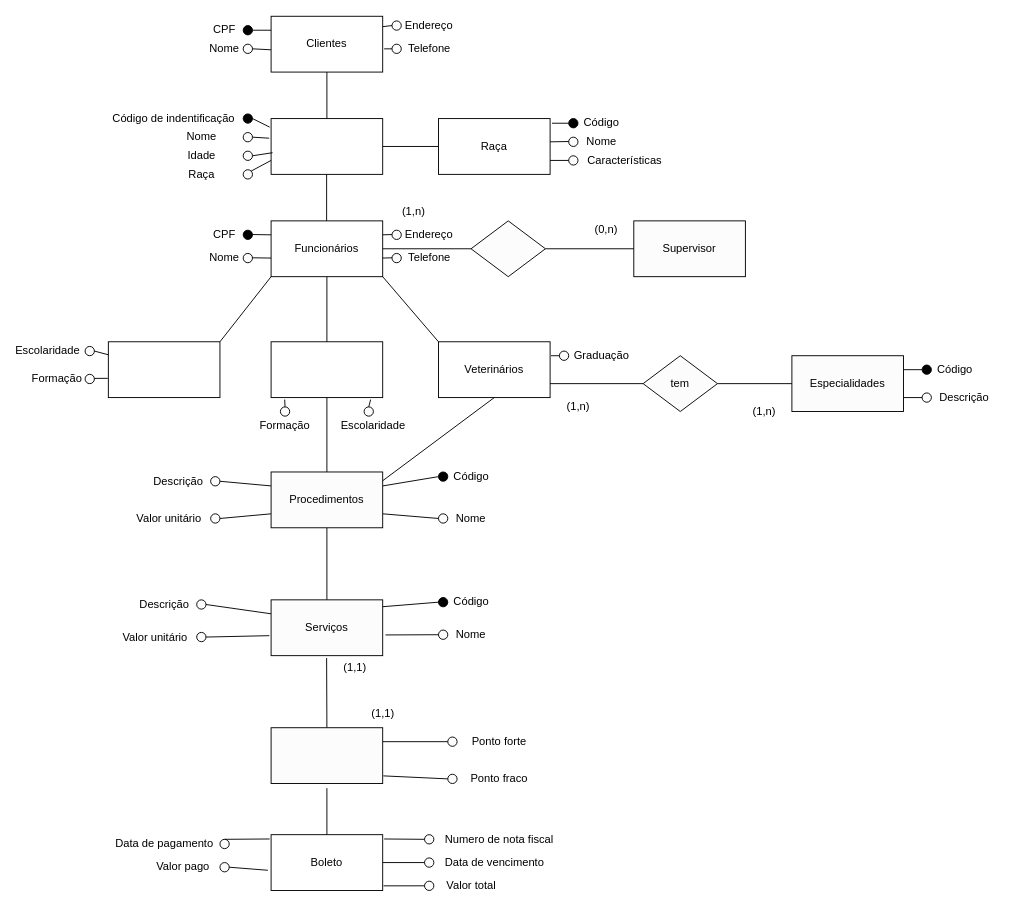
Some shapes in this 1013 by 911 pixel diagram are drawn without their labels. The centre of each missing label's shape, as x and y in pixels:
"Animal de estimação" belongs at pixel 326 146.
"Atendentes" belongs at pixel 163 369.
"Avaliação" belongs at pixel 326 755.
"Banhistas" belongs at pixel 326 369.
"supervisiona" belongs at pixel 507 248.
